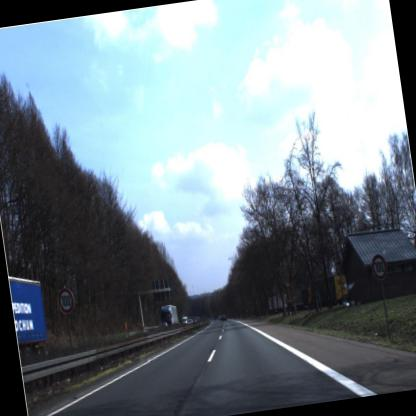prohibitory: (54, 283, 78, 316), (367, 250, 389, 282)
